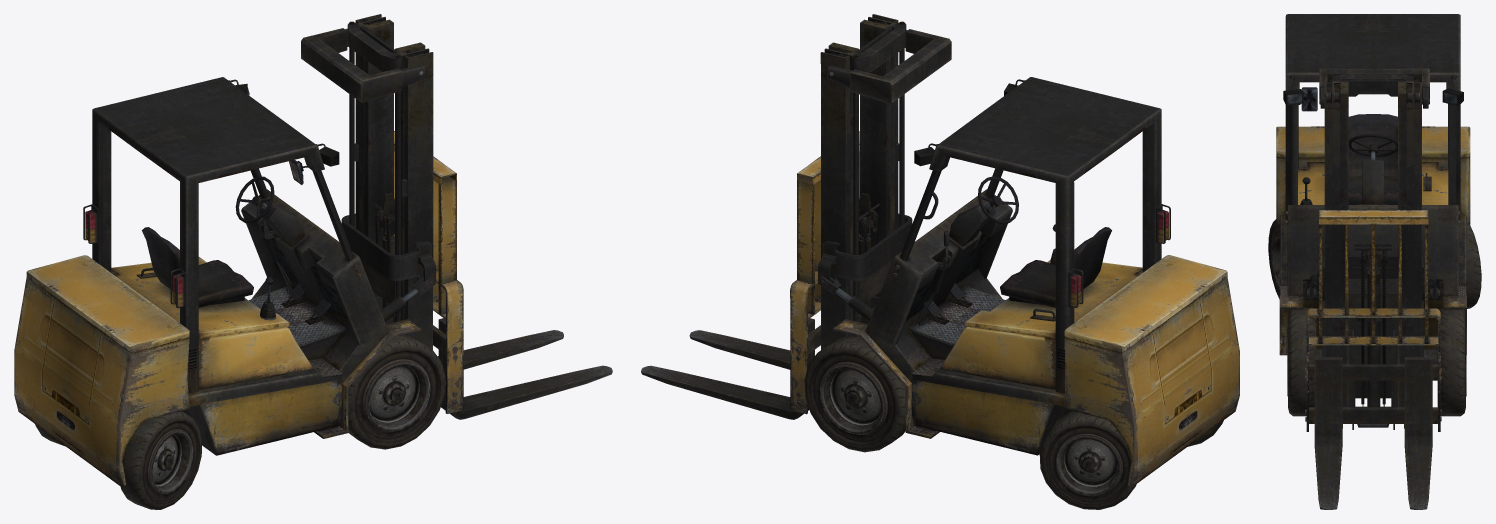
The model's file is forklift.obj.
The picture shows the model from 3 angles, left to right: view 1: azimuth 30°, elevation 25°; view 2: azimuth 150°, elevation 25°; view 3: azimuth 270°, elevation 25°; orthographic projection. The views are drawn at different scales.
Visible parts, largest first — view 1: 1, 0, 2; view 2: 1, 0; view 3: 1, 0, 2.
Part boxes in pixels (x1,y1,x2,y2): 1: (14, 14, 612, 487); 0: (35, 334, 445, 509); 2: (181, 296, 394, 455); 1: (641, 14, 1239, 486); 0: (804, 335, 1223, 509); 1: (1276, 14, 1470, 509); 0: (1268, 219, 1481, 416); 2: (1322, 223, 1470, 429).
Bounding box in the file's own units: 3.63 × 2.47 × 1.39.
Materials: 3 (3 with a texture image).
